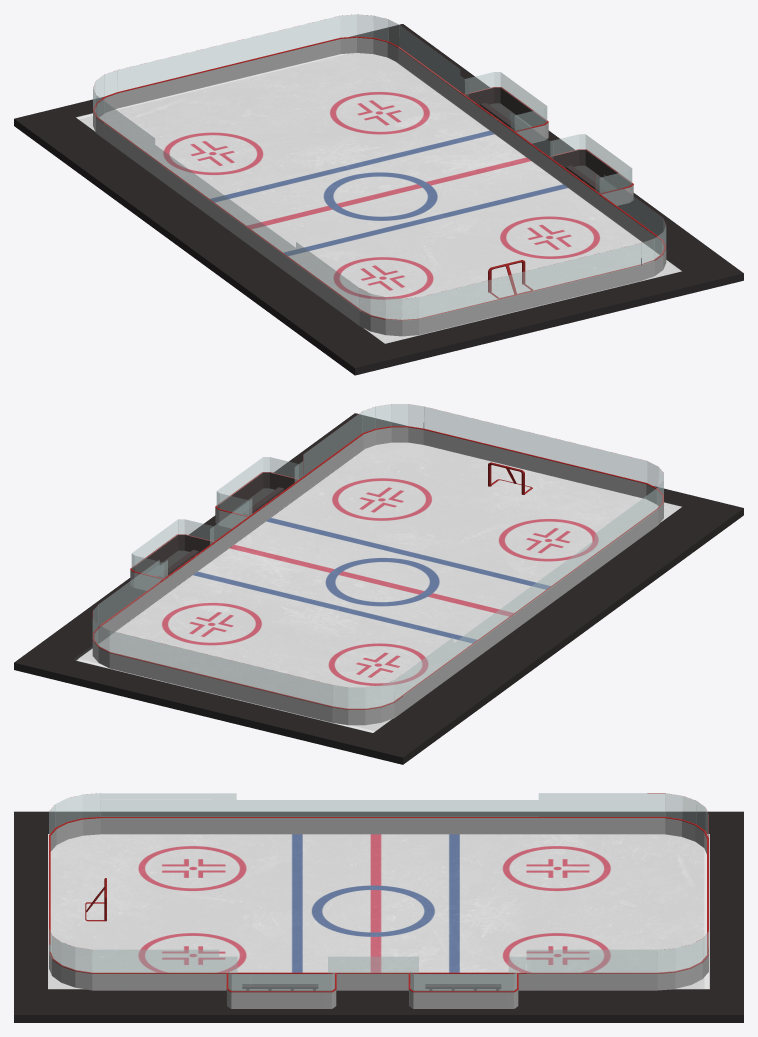
Rendered from hockey_rink (1).glb.
The picture shows the model from 3 angles, top to bottom: view 1: azimuth 30°, elevation 25°; view 2: azimuth 150°, elevation 25°; view 3: azimuth 270°, elevation 25°; orthographic projection. The views are drawn at different scales.
Visible parts, largest first — view 1: IceSurface3, IceSurface4, pCube27 (×2), pCube45 (×2), pCube80 (×2), pCube22, pCube77 (×2), pCube42 (×2), pCube41 (×2), pCube43 (×2), pCube5, pCube95 (+2 smaller); view 2: IceSurface3, IceSurface4, pCube27 (×2), pCube45 (×2), pCube22, pCube80 (×2), pCube77 (×2), pCube30 (×2), pCube29 (×2), pCube31 (×2), pCube5, pCube78 (+2 smaller); view 3: IceSurface3, IceSurface4, pCube45 (×2), pCube22 (×2), pCube80 (×2), pCube5, pCube44 (×2), pCube28 (×2), pCube43 (×2), pCube87 (×2), pCube29 (×2), pCube42 (×2) (+4 smaller).
Boxes of the visible parts, x1,y1,x2,y2 form: IceSurface3: (76,53,681,343); IceSurface4: (14,24,743,375); pCube27 (×2): (117,19,641,334); pCube45 (×2): (104,25,460,325); pCube80 (×2): (500,72,623,188); pCube22: (602,174,663,254); pCube77 (×2): (515,108,629,205); pCube42 (×2): (357,14,402,336); pCube41 (×2): (340,14,418,336); pCube43 (×2): (370,15,388,334); pCube5: (509,113,544,168); pCube95: (464,72,494,105); IceSurface3: (76,442,681,732); IceSurface4: (14,413,743,764); pCube27 (×2): (124,407,647,722); pCube45 (×2): (98,488,658,711); pCube22: (303,411,363,492); pCube80 (×2): (130,463,254,573); pCube77 (×2): (184,457,299,553); pCube30 (×2): (348,404,408,725); pCube29 (×2): (365,404,391,725); pCube31 (×2): (332,404,424,725); pCube5: (210,505,245,560); pCube78: (219,493,248,528); IceSurface3: (48,834,709,989); IceSurface4: (14,811,743,1022); pCube45 (×2): (100,793,657,990); pCube22 (×2): (92,793,665,990); pCube80 (×2): (250,974,515,1008); pCube5: (346,956,418,990); pCube44 (×2): (82,793,675,990); pCube28 (×2): (75,793,682,990); pCube43 (×2): (67,795,690,988); pCube87 (×2): (232,974,432,1008); pCube29 (×2): (61,796,696,987); pCube42 (×2): (55,798,702,984).
Size of the model in its own units: 0.8369 by 0.0962 by 1.27.
Materials: 13 (1 with a texture image).
